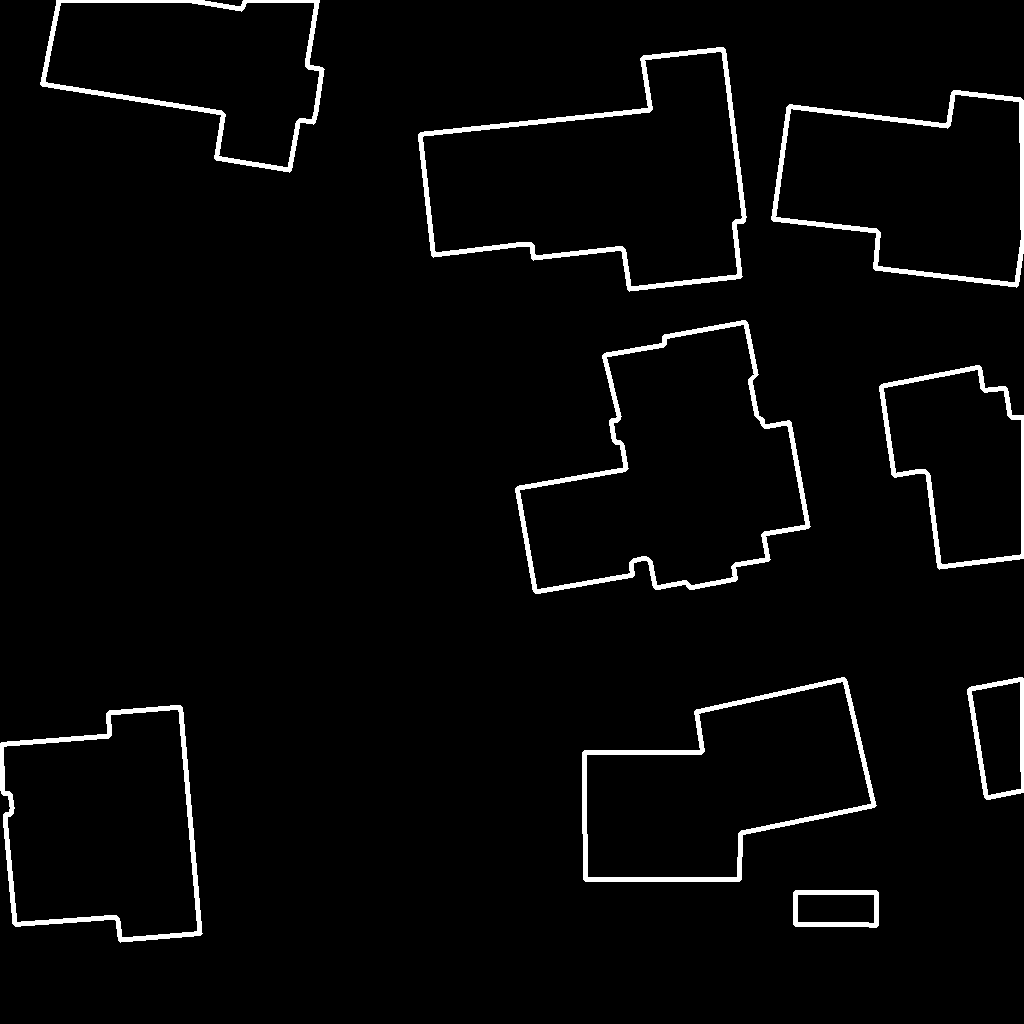building: (517, 322, 809, 593), (420, 49, 745, 290), (584, 679, 875, 880), (773, 92, 1024, 286), (42, 0, 323, 171), (1, 707, 201, 941), (881, 367, 1024, 568), (969, 679, 1024, 799), (795, 892, 878, 926)
